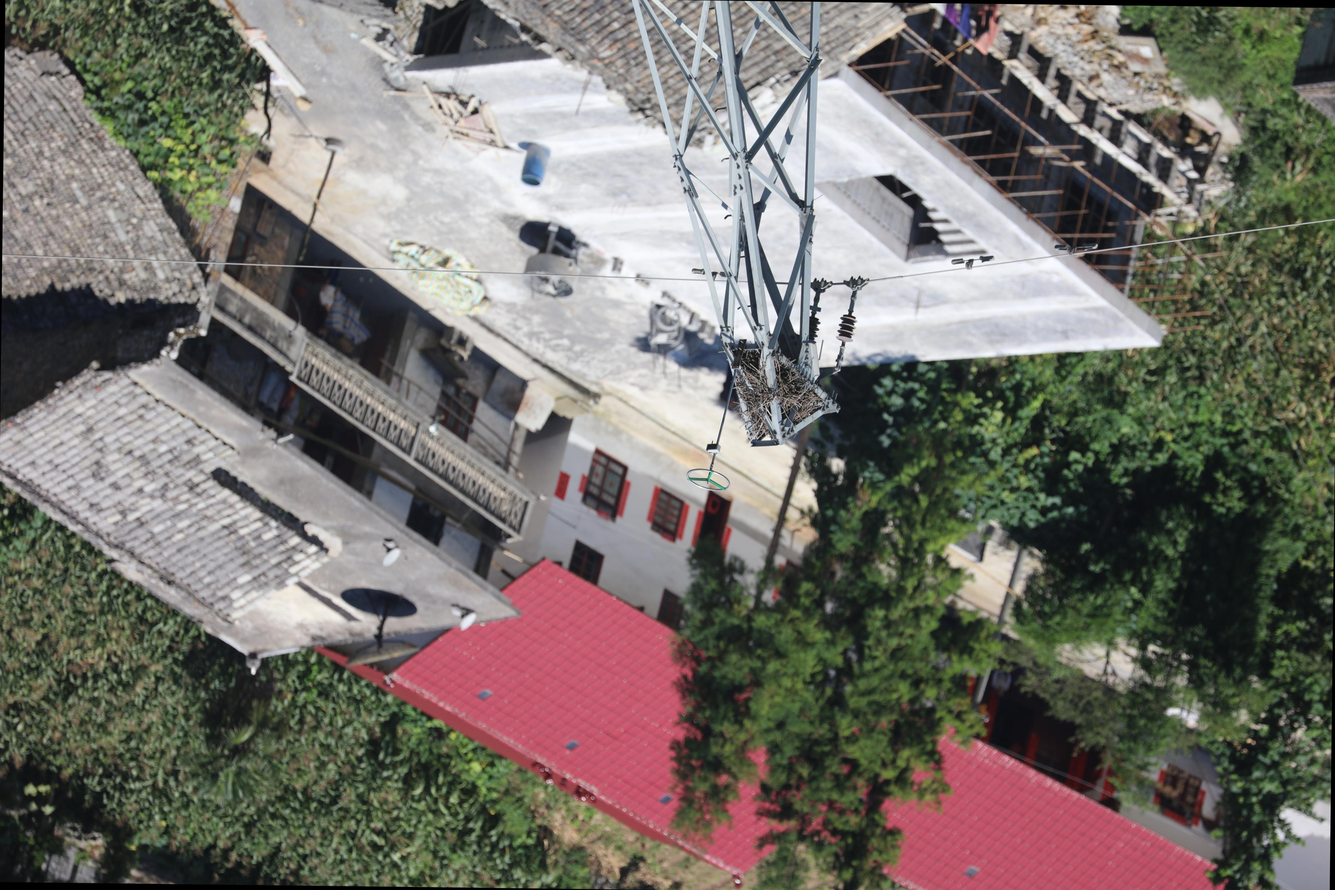damper: (1051, 240, 1100, 258), (950, 253, 996, 272), (689, 267, 733, 284)
